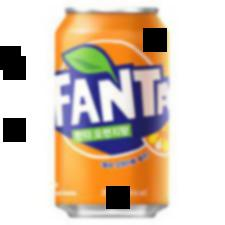fanta_orange: (46, 6, 173, 218)
